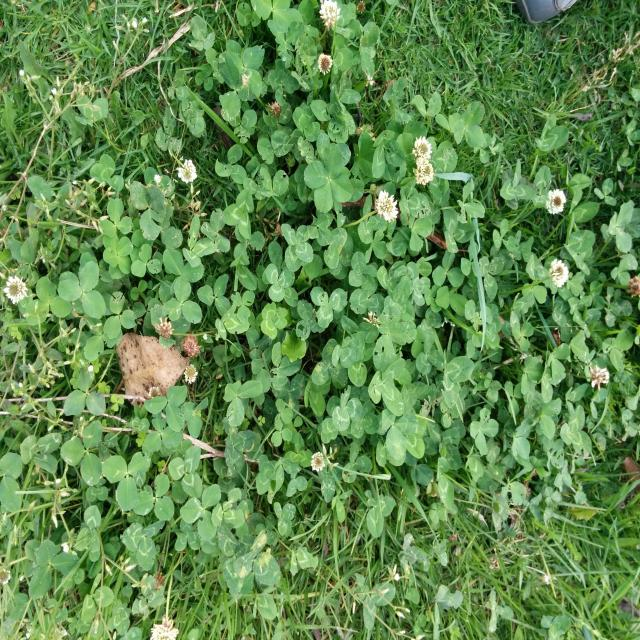Four Leaf Clover: (304, 143, 353, 213), (470, 408, 499, 455), (102, 233, 133, 274)
